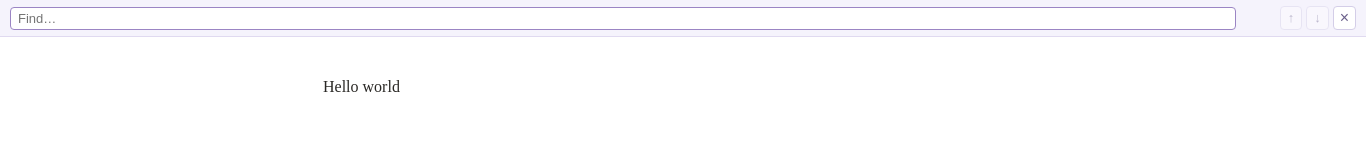
FindBar — find mode › shows "0" when the query has no matches
Type "xyz" into the field with placeholder "Find…".
click(623, 18); type("xyz")  # box [10,7,1236,30]
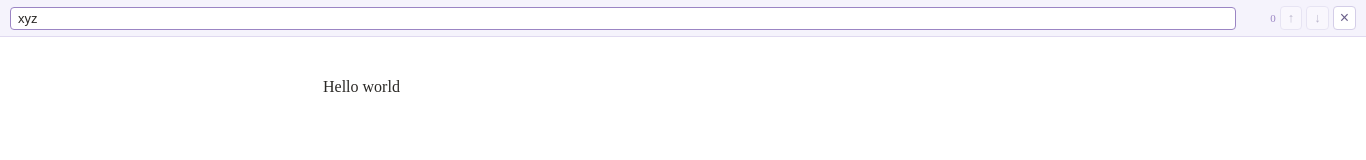
Expected: the text "0" is shown, [1270,12,1276,24]
